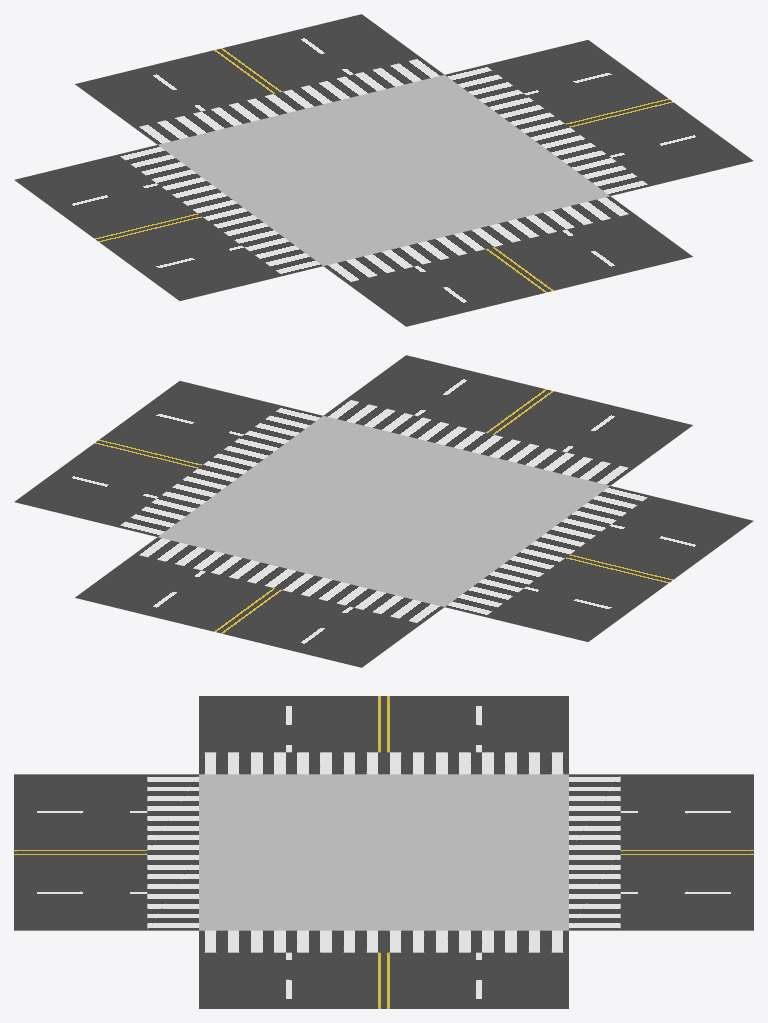
The model's file is Road_Intersection_Double.fbx.
3 views of the same model, one above another, from view 1: azimuth 30°, elevation 25°; view 2: azimuth 150°, elevation 25°; view 3: azimuth 270°, elevation 25° (orthographic). The views are drawn at different scales.
Visible parts, largest first — view 1: Road_Intersection._Double; view 2: Road_Intersection._Double; view 3: Road_Intersection._Double.
Boxes of the visible parts, box(x1,y1,x2,y2) form: Road_Intersection._Double: box(14, 14, 753, 326); Road_Intersection._Double: box(14, 355, 753, 667); Road_Intersection._Double: box(14, 696, 753, 1008).
Size of the model in its own units: 1600 by 0 by 1600.
